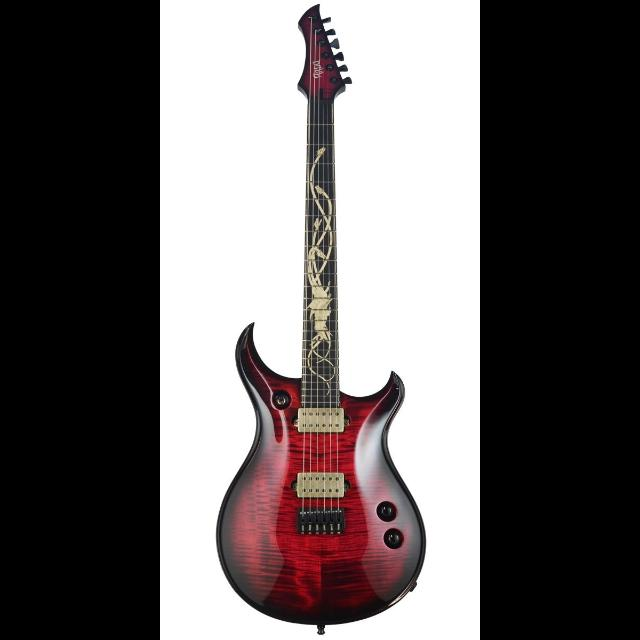Electric-Guitar: (214, 0, 428, 632), (215, 9, 426, 635)
